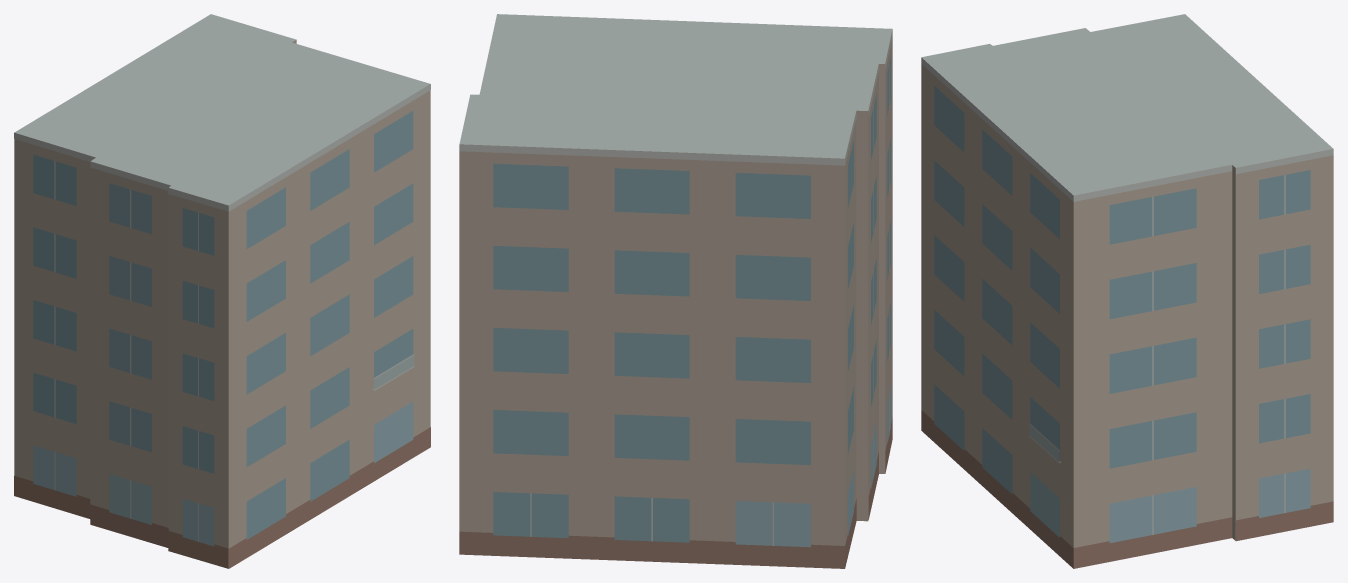
File: survey-upis-32923688.glb
3 renders of one model, left to right at view 1: azimuth 30°, elevation 25°; view 2: azimuth 150°, elevation 25°; view 3: azimuth 270°, elevation 25°, orthographic. The views are drawn at different scales.
Visible parts, largest first — view 1: survey-upis-32923688.tmp; view 2: survey-upis-32923688.tmp; view 3: survey-upis-32923688.tmp.
Part boxes in pixels (x1,y1,x2,y2): survey-upis-32923688.tmp: (14, 14, 430, 568); survey-upis-32923688.tmp: (459, 14, 892, 568); survey-upis-32923688.tmp: (921, 14, 1333, 568).
Bounding box in the file's own units: 15.04 × 14.4 × 14.43.
